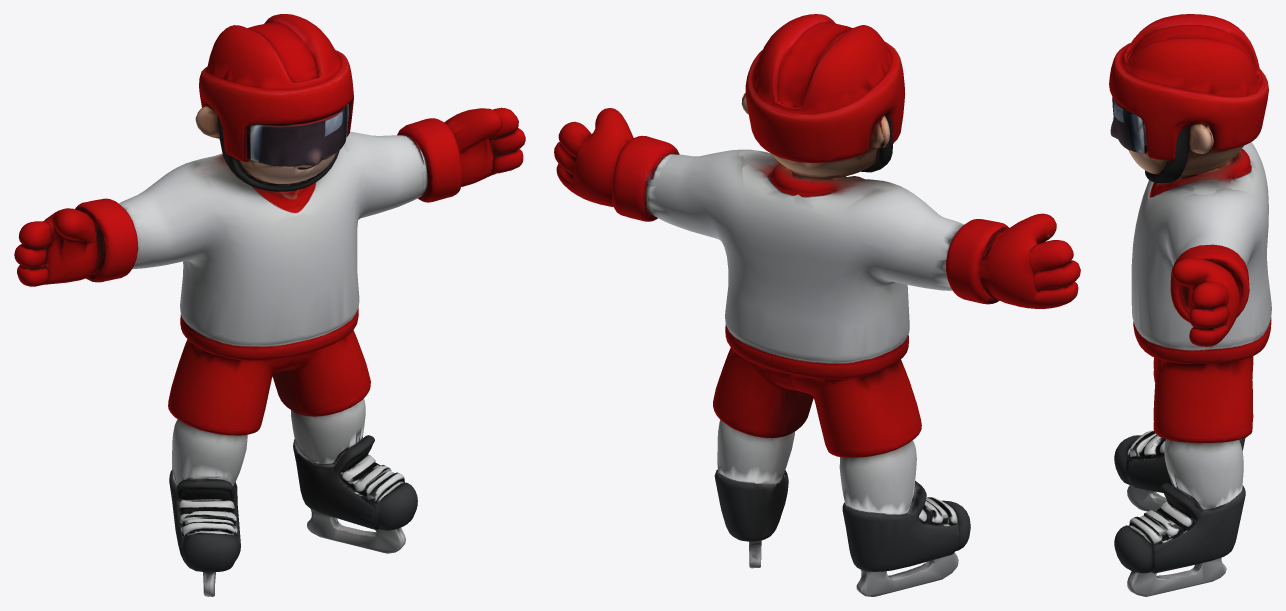
Rendered from skater_for_mixamo.fbx.
The picture shows the model from 3 angles, left to right: view 1: azimuth 30°, elevation 25°; view 2: azimuth 150°, elevation 25°; view 3: azimuth 270°, elevation 25°; orthographic projection. The views are drawn at different scales.
Visible parts, largest first — view 1: skater; view 2: skater; view 3: skater.
Part boxes in pixels (x1,y1,x2,y2): skater: (14, 14, 525, 596); skater: (554, 14, 1080, 596); skater: (1109, 14, 1271, 596).
Bounding box in the file's own units: 1.79 × 1.79 × 0.5031.
1 material, 1 textured.
